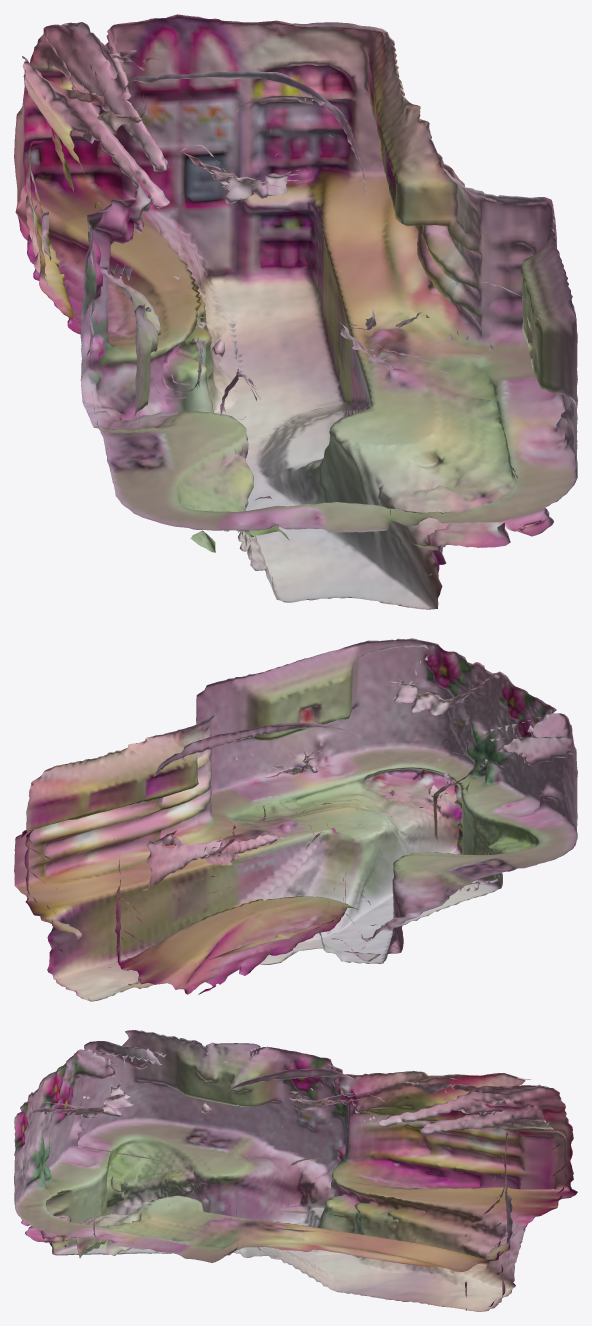
Rendered from fairy-kitchen_collider.glb.
3 renders of one model, top to bottom at view 1: azimuth 30°, elevation 25°; view 2: azimuth 150°, elevation 25°; view 3: azimuth 270°, elevation 25°, orthographic. The views are drawn at different scales.
Parts seen in each view (by area): view 1: world; view 2: world; view 3: world.
Part boxes in pixels (x1,y1,x2,y2): world: [14, 14, 577, 609]; world: [14, 638, 577, 1001]; world: [14, 1030, 577, 1311].
Size of the model in its own units: 5.37 by 2.83 by 8.02.
